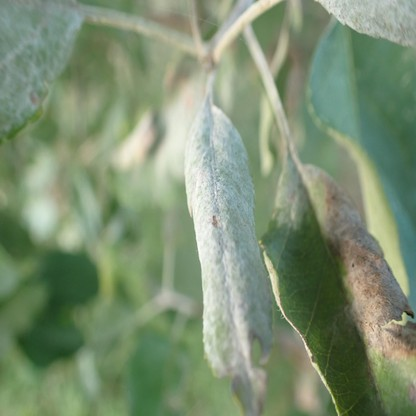powdery_mildew: (185, 73, 272, 413), (0, 4, 83, 133), (317, 0, 416, 47), (274, 159, 309, 229)
